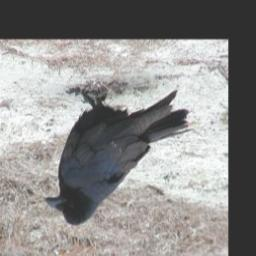Crow: (45, 86, 192, 228)
